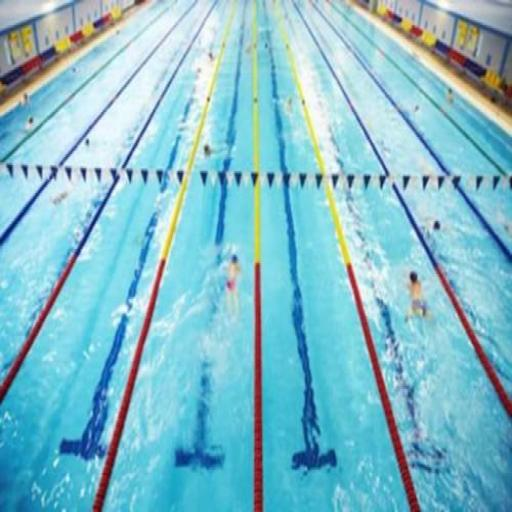swimming: (218, 246, 244, 319), (402, 266, 431, 328)
